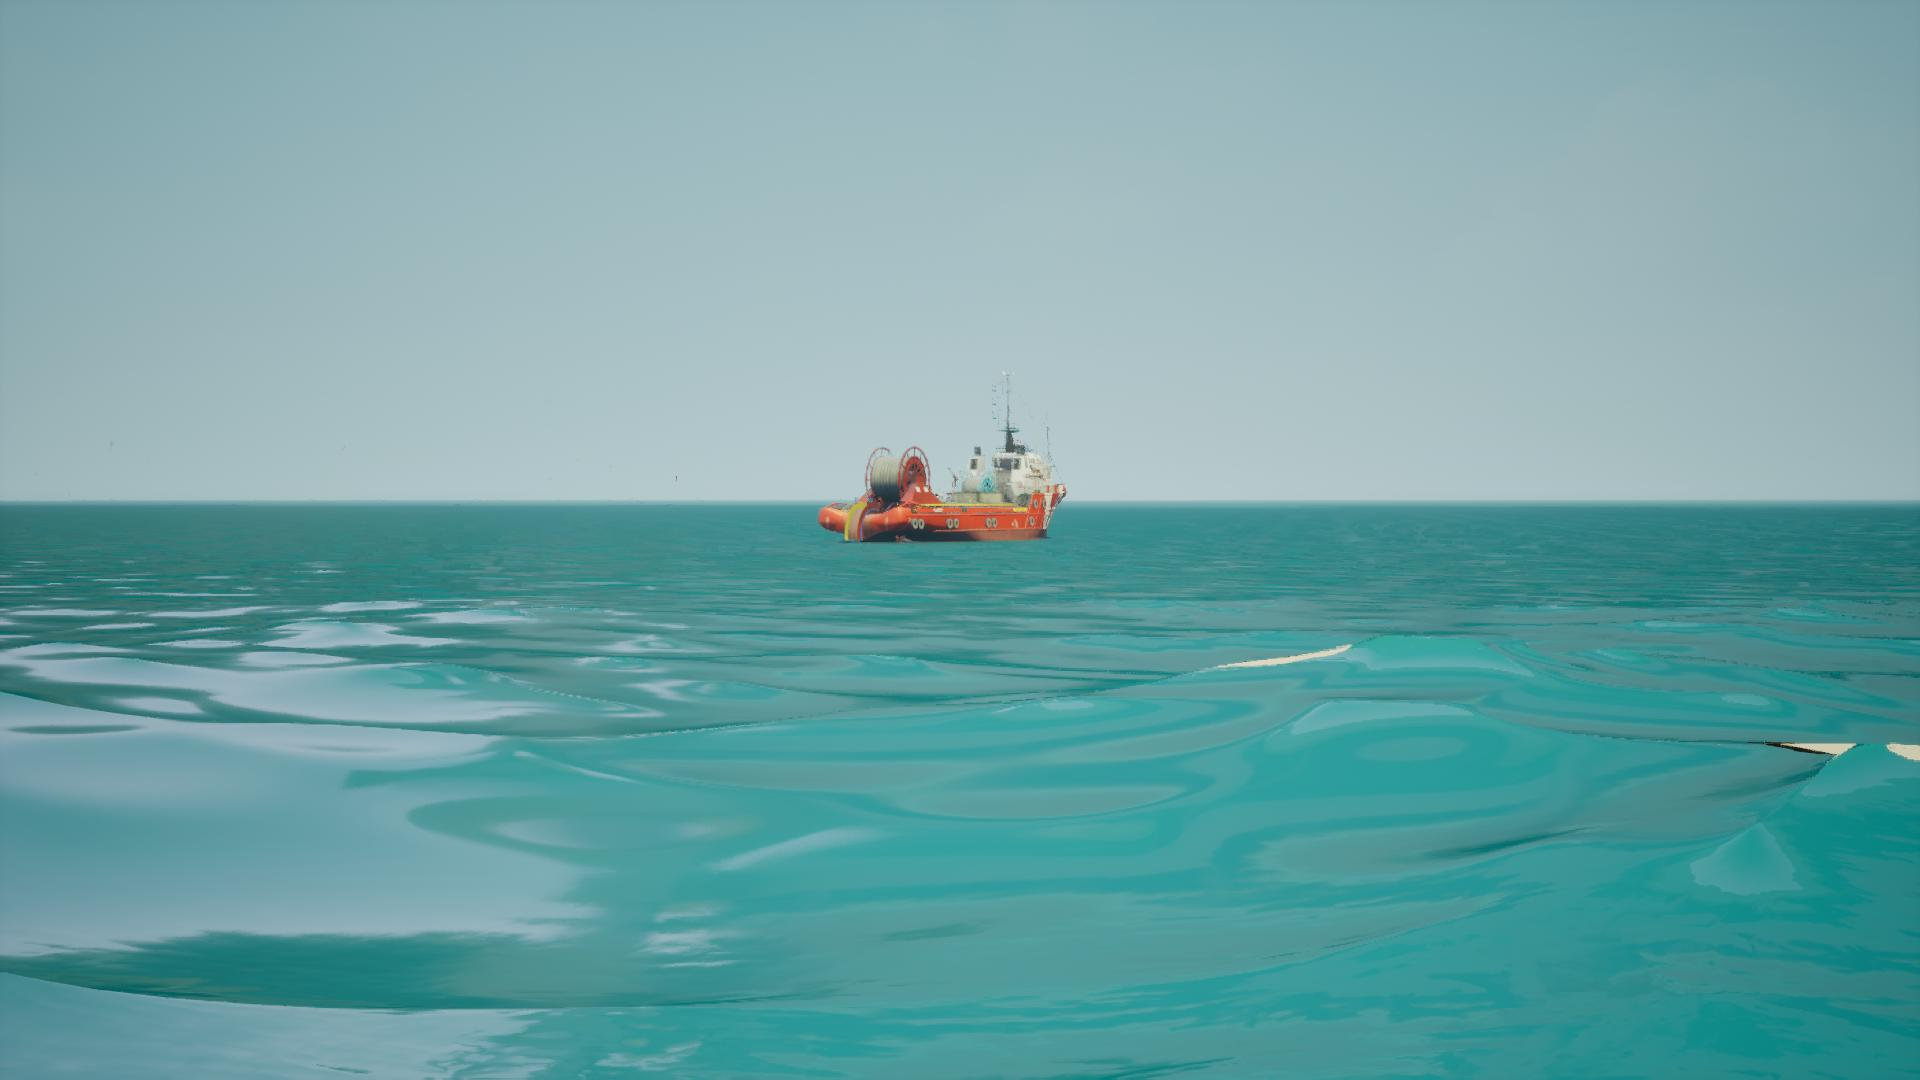Tug Boat: (833, 373, 1068, 545)
